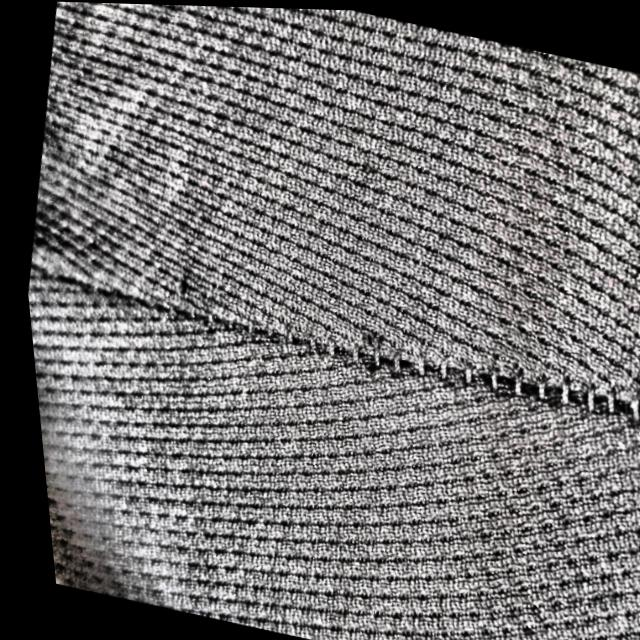Stitch: (281, 307, 640, 472)
